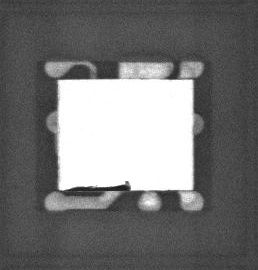DIE_BROKEN: (66, 178, 132, 192)
